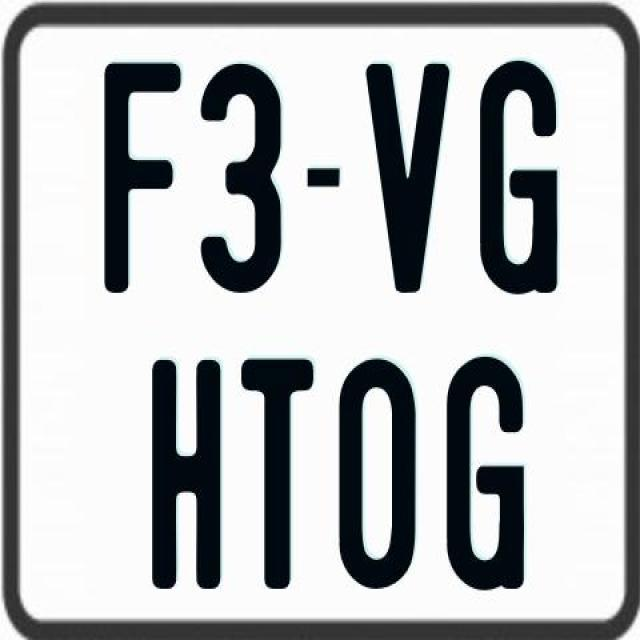0: (334, 356, 412, 590)
3: (198, 63, 286, 294)
F: (102, 61, 182, 294)
G: (476, 58, 559, 292), (446, 356, 524, 596)
H: (149, 357, 219, 589)
T: (240, 356, 314, 588)
V: (364, 64, 452, 296)
